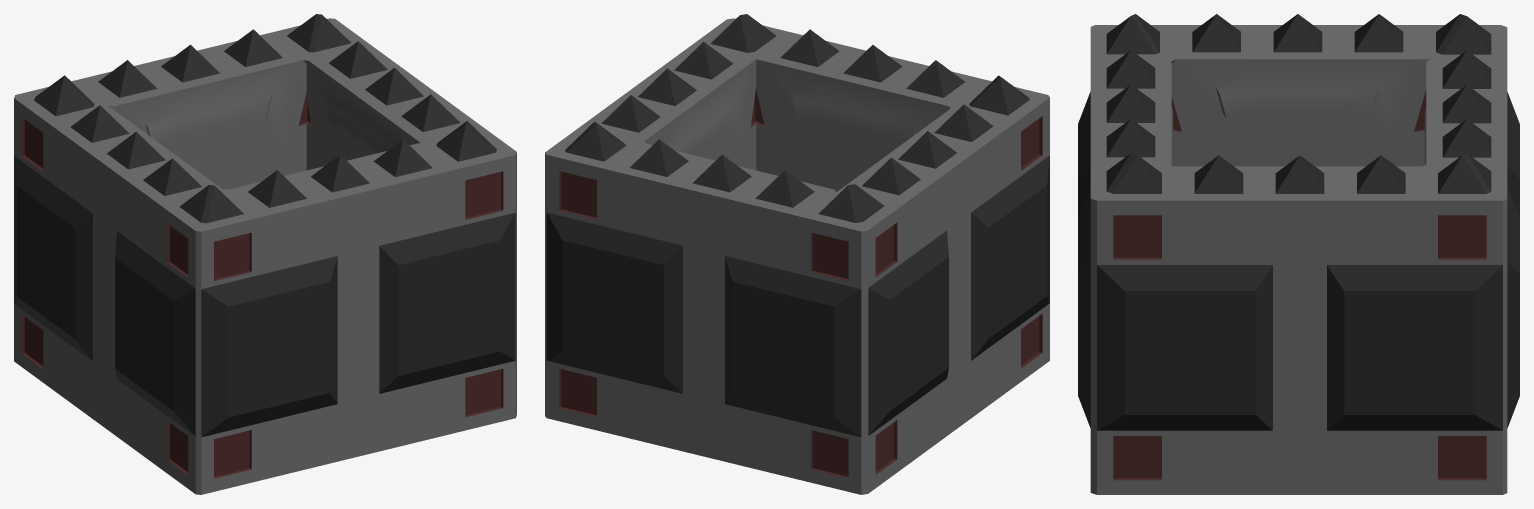
The model's file is Spikedwall 3.fbx.
The picture shows the model from 3 angles, left to right: view 1: azimuth 30°, elevation 25°; view 2: azimuth 150°, elevation 25°; view 3: azimuth 270°, elevation 25°; orthographic projection. The views are drawn at different scales.
Parts seen in each view (by area): view 1: Cube; view 2: Cube; view 3: Cube.
Boxes of the visible parts, x1,y1,x2,y2 form: Cube: (14,14,516,494); Cube: (545,14,1049,494); Cube: (1078,14,1519,494).
Bounding box in the file's own units: 1086 × 876 × 1089.
